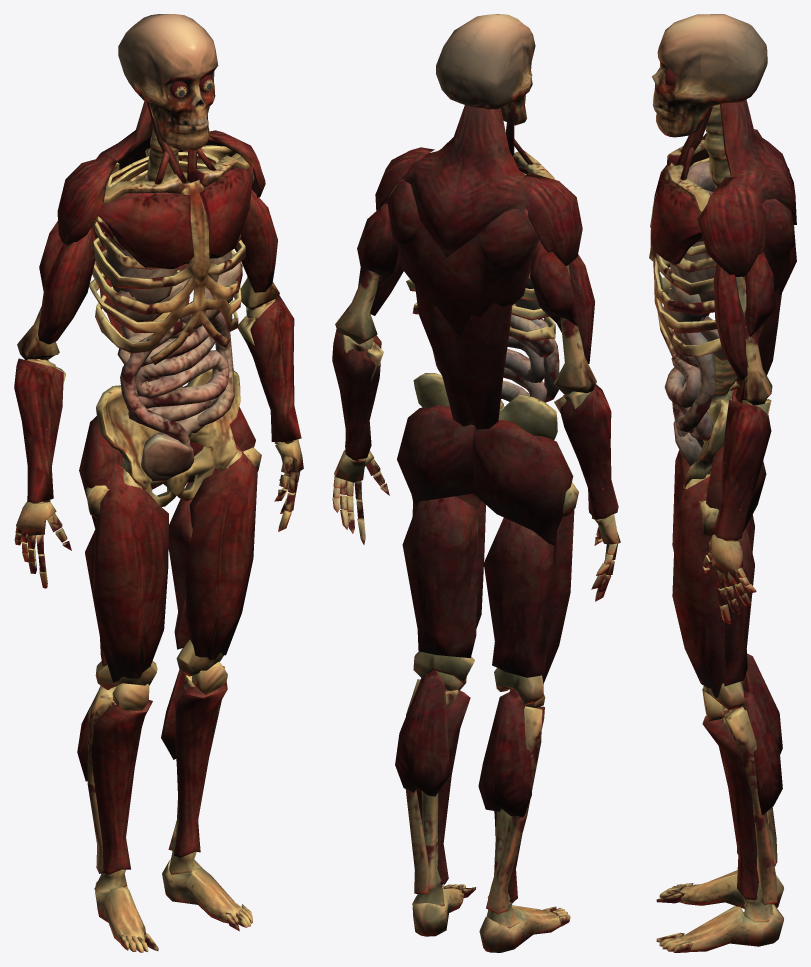
File: CuerpoEsqueleto.obj
The picture shows the model from 3 angles, left to right: view 1: azimuth 30°, elevation 25°; view 2: azimuth 150°, elevation 25°; view 3: azimuth 270°, elevation 25°; orthographic projection.
Visible parts, largest first — view 1: backmuscles_Untitled.019; view 2: backmuscles_Untitled.019; view 3: backmuscles_Untitled.019.
Part boxes in pixels (<box>): backmuscles_Untitled.019: <box>14,14,303,952</box>; backmuscles_Untitled.019: <box>332,14,620,952</box>; backmuscles_Untitled.019: <box>649,14,796,952</box>.
Size of the model in its own units: 0.6438 by 1.94 by 0.2873.
2 materials, 2 textured.
